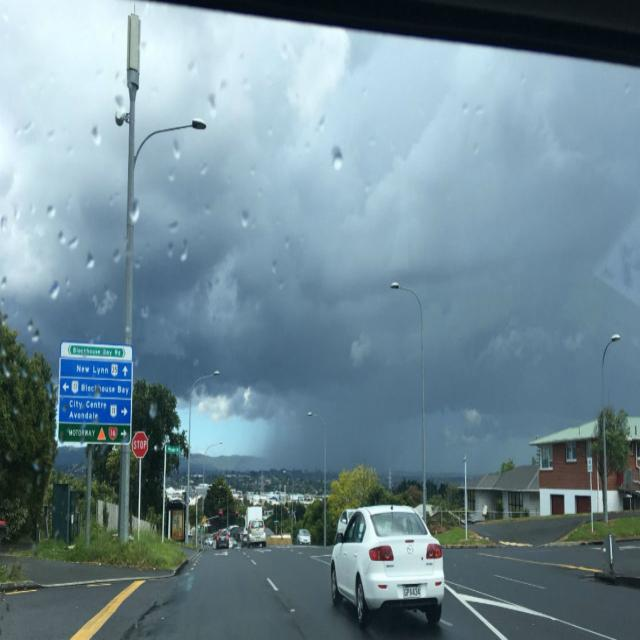car: (329, 504, 447, 627), (246, 518, 266, 546), (214, 526, 230, 546), (296, 526, 312, 545)
